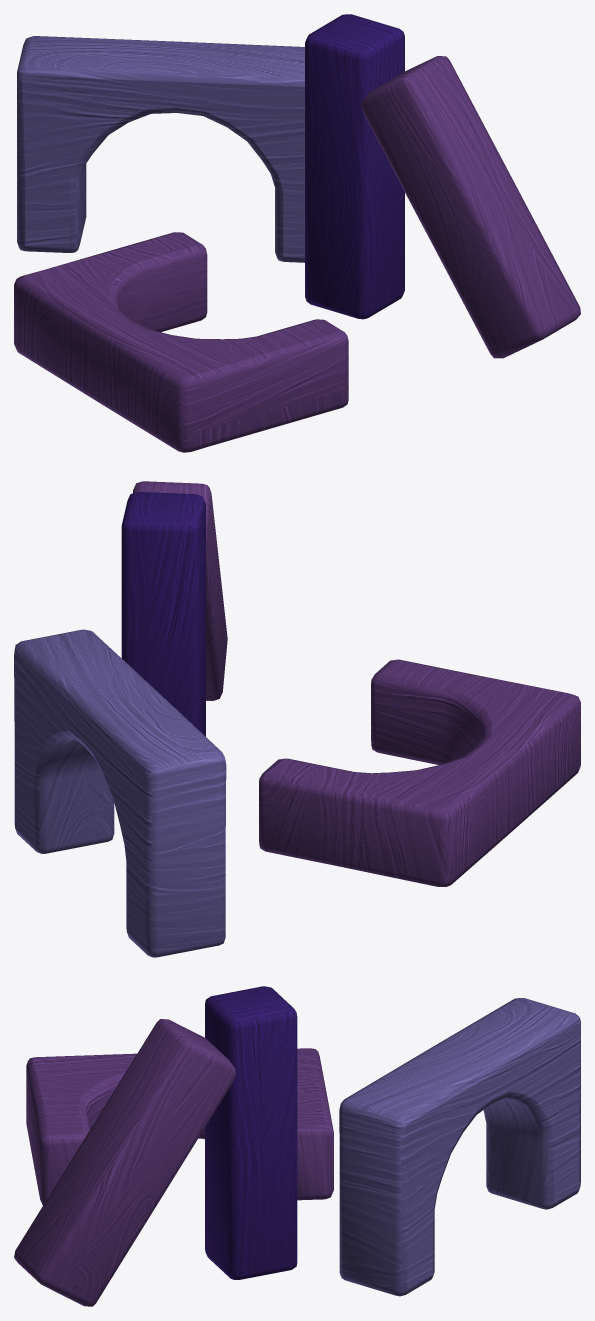
The model's file is Arches.glb.
The picture shows the model from 3 angles, top to bottom: view 1: azimuth 30°, elevation 25°; view 2: azimuth 150°, elevation 25°; view 3: azimuth 270°, elevation 25°; orthographic projection. The views are drawn at different scales.
Parts seen in each view (by area): view 1: Arches.001; view 2: Arches.001; view 3: Arches.001.
Boxes of the visible parts, x1=… form: Arches.001: x1=14, y1=14, x2=580, y2=452; Arches.001: x1=14, y1=481, x2=580, y2=957; Arches.001: x1=14, y1=986, x2=580, y2=1306.
Size of the model in its own units: 2.91 by 1.79 by 3.45.
Materials: 1 (1 with a texture image).
